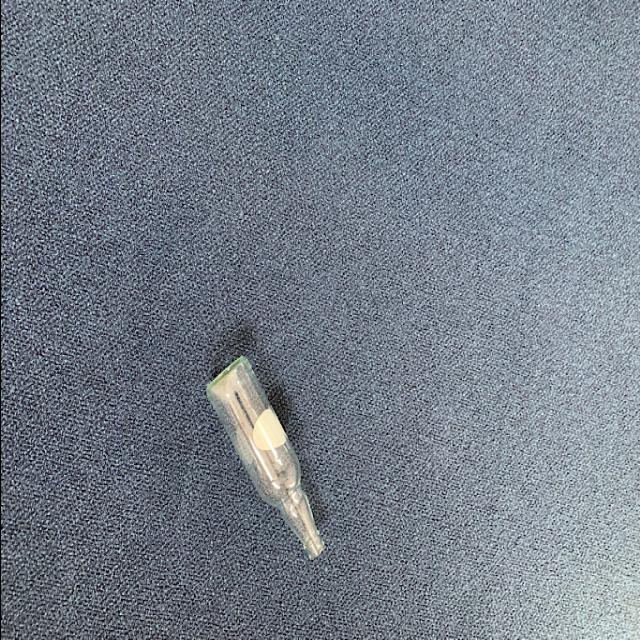Glass Bottle: (203, 352, 327, 566)
